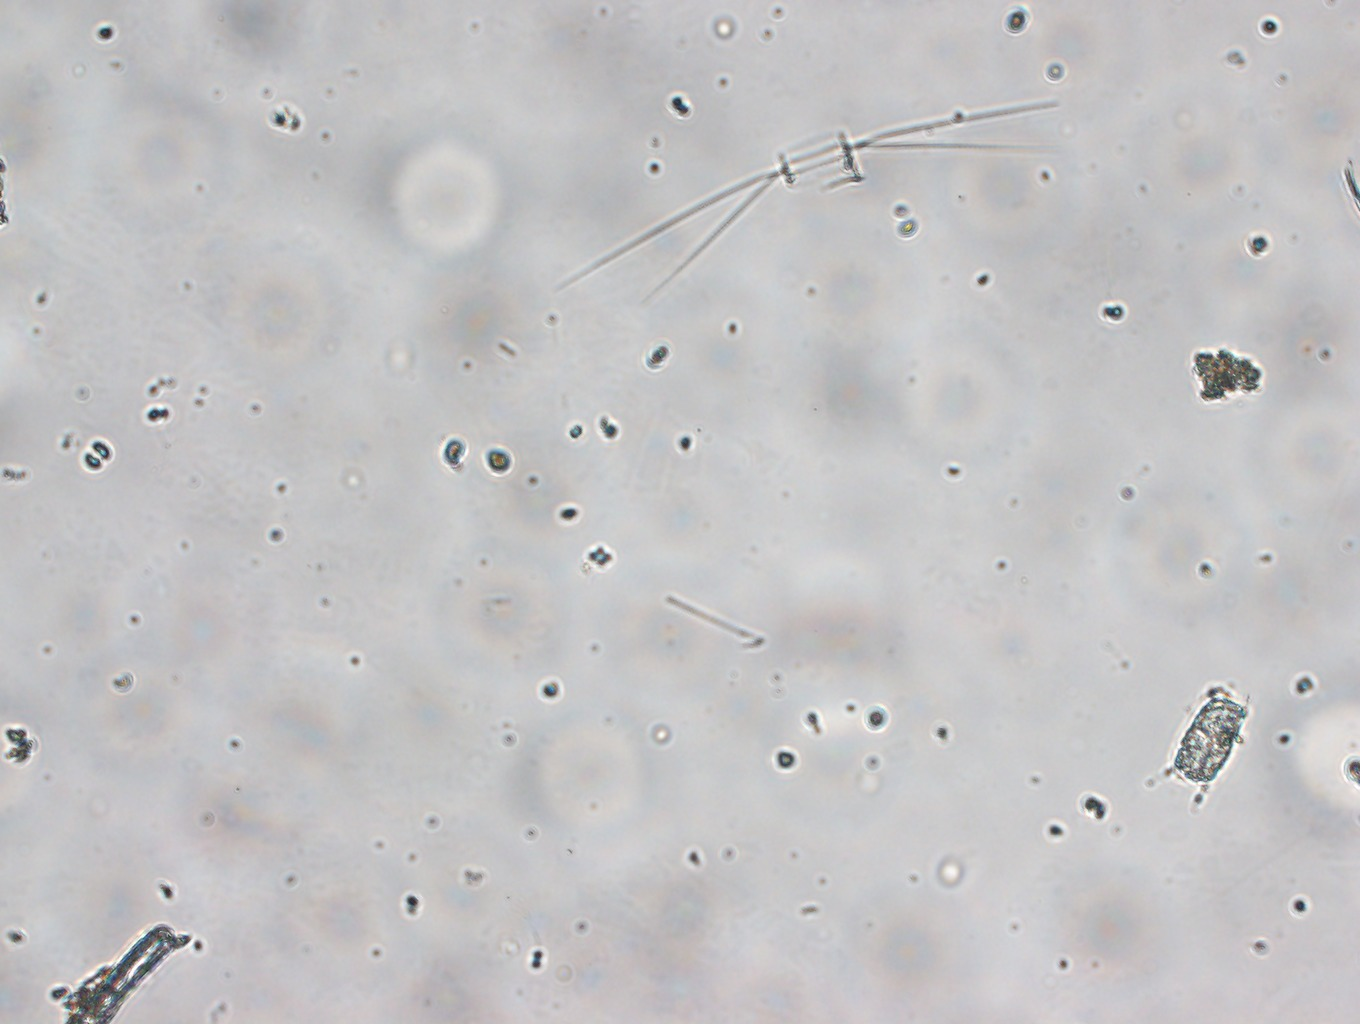chaetoceros: (557, 90, 1099, 294)
